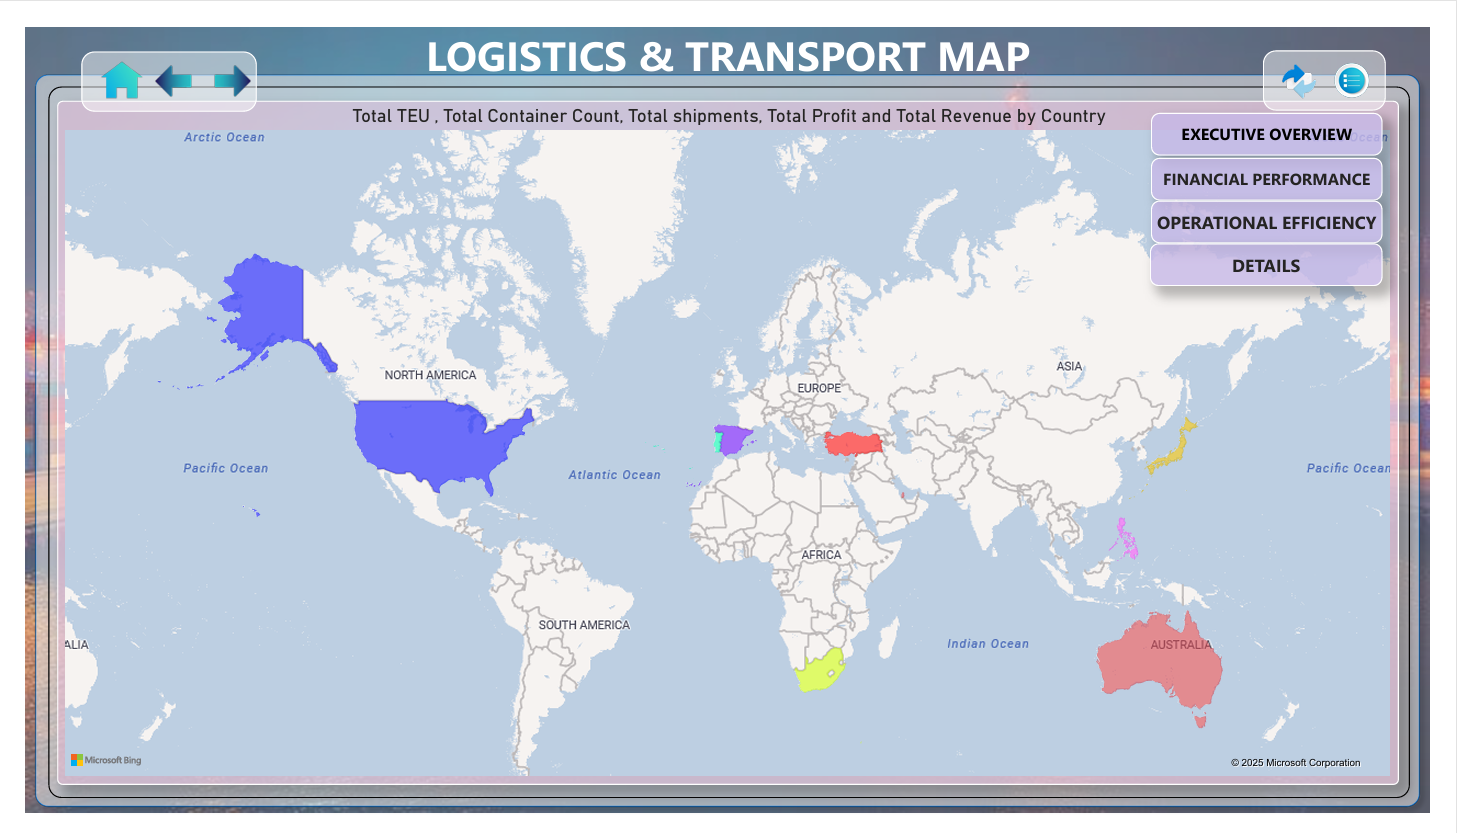

The page's visual inventory and layout, read from the dashboard file:
{"tool":"powerbi","page":{"name":"Map","canvas":[1280,720],"ordinal":4},"visuals":[{"type":"shape","box":[0,34.2,1280.3,686],"z":0},{"type":"shape","box":[20.8,53.8,1241.2,649.3],"z":1000},{"type":"filledMap","fields":{"Category":["Shipping_Data.Origin Country"]},"box":[29.3,67.3,1222.8,623.6],"z":2000},{"type":"shape","box":[1127.5,20.8,112.5,55],"z":3000},{"type":"image","box":[1127.5,22,67.3,53.8],"z":4000},{"type":"shape","box":[51.4,22,160,55],"z":5000},{"type":"image","box":[51.4,20.8,72.1,53.8],"z":6000},{"type":"image","box":[157.7,26.9,62.4,44],"z":7000},{"type":"image","box":[103.9,26.9,62.4,44],"z":8000},{"type":"image","box":[1184.2,26.7,48.3,49.2],"z":9000},{"type":"textbox","box":[354.6,0,571.1,74.6],"z":10000}]}

Visuals, with their boxes in screenshot pixels (x1, y1, x2, y2), scaled from the page's 1280x720 canvas onto the 1457x833 screenshot:
shape: (0, 40, 1456, 832)
shape: (24, 62, 1437, 813)
filledMap - Shipping_Data.Origin Country: (33, 78, 1425, 799)
shape: (1283, 24, 1411, 88)
image: (1283, 25, 1360, 88)
shape: (59, 25, 241, 89)
image: (59, 24, 141, 86)
image: (180, 31, 251, 82)
image: (118, 31, 189, 82)
image: (1348, 31, 1403, 88)
textbox: (404, 0, 1054, 86)
